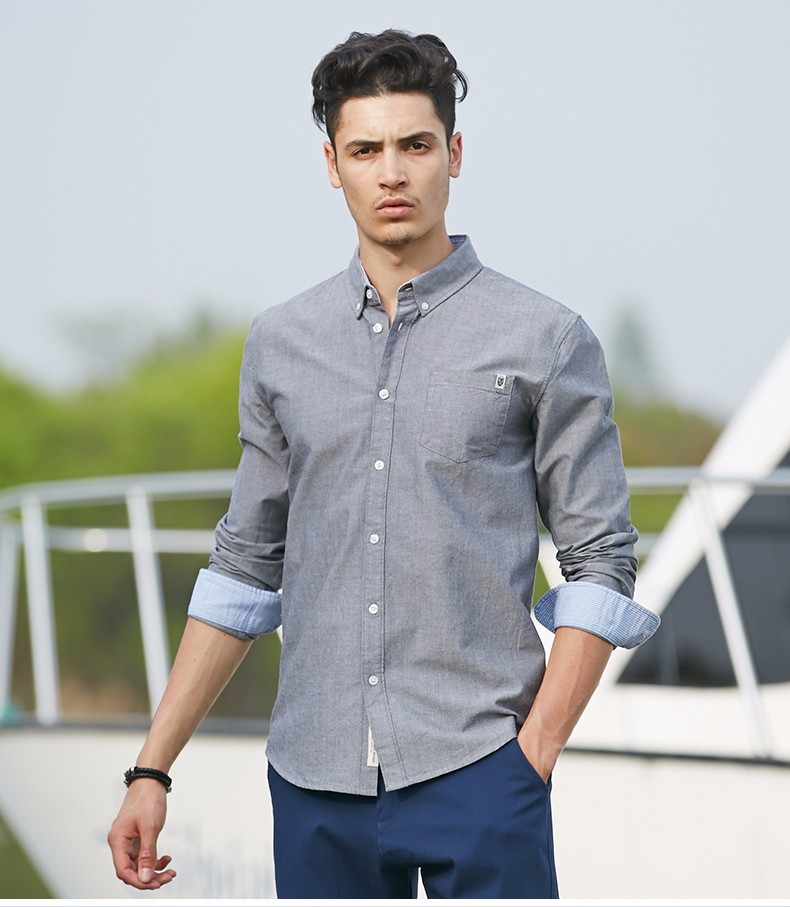Shirt: (194, 229, 679, 785)
